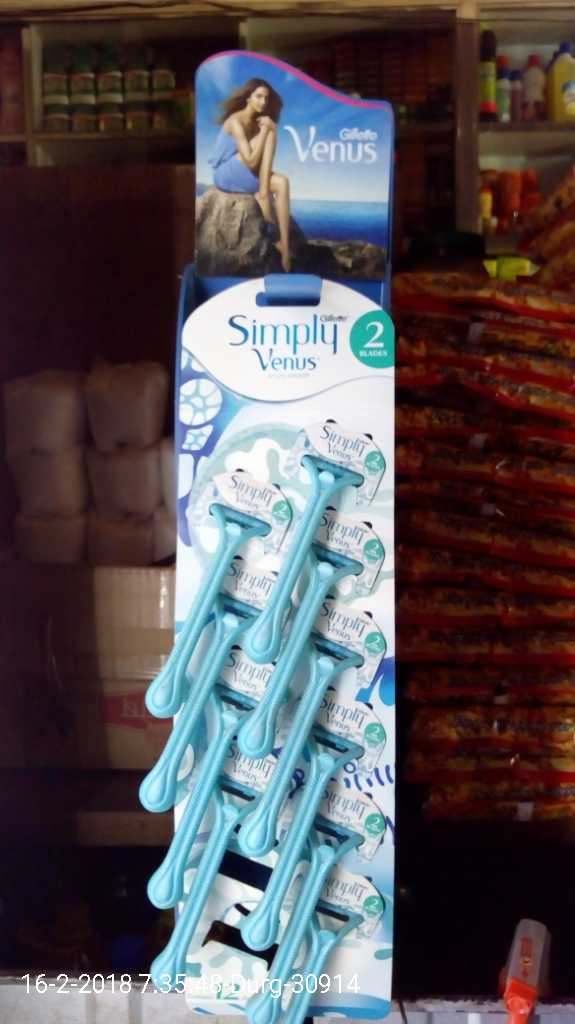reject: (318, 142, 393, 225)
